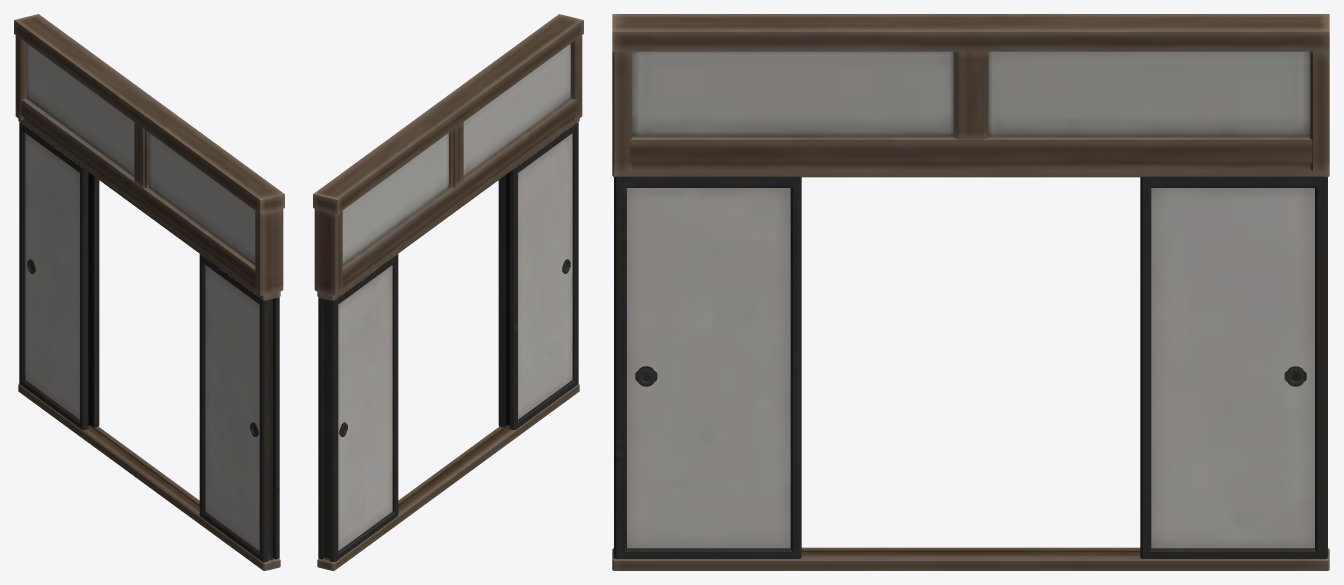
File: Architecture_JapaneseStyle_DoorC_27943a.glb
The picture shows the model from 3 angles, left to right: view 1: azimuth 30°, elevation 25°; view 2: azimuth 150°, elevation 25°; view 3: azimuth 270°, elevation 25°; orthographic projection. The views are drawn at different scales.
Size of the model in its own units: 0.2324 by 3.36 by 4.02.
Materials: 1 (1 with a texture image).
